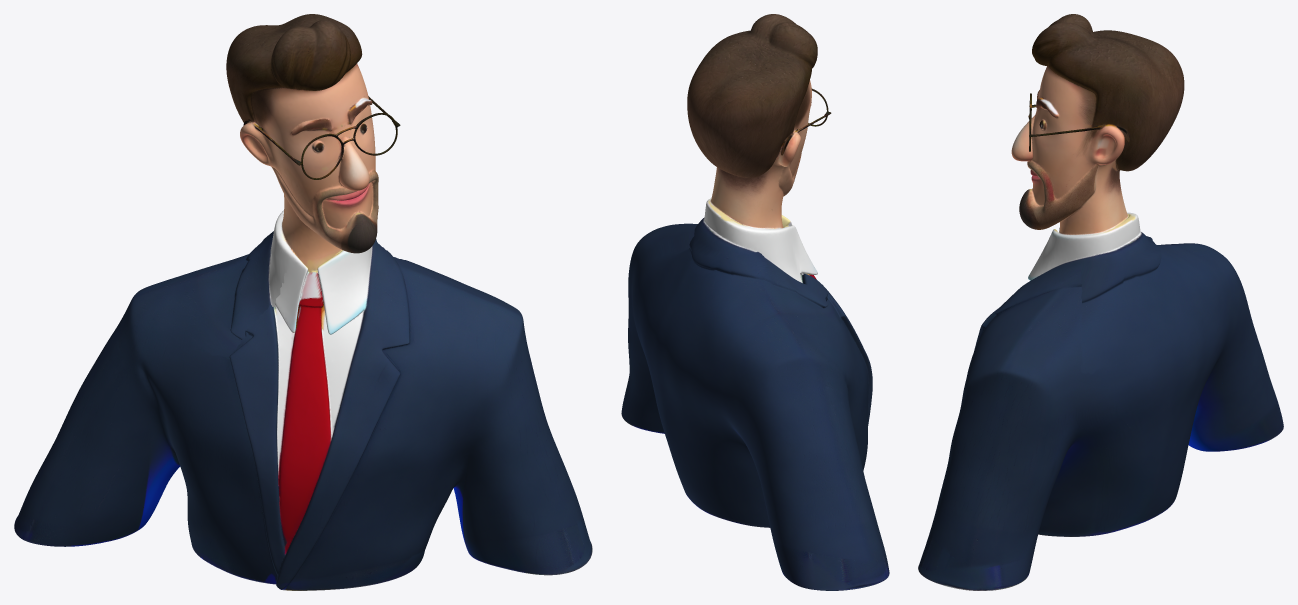
File: avatar_shapekeys.glb
3 renders of one model, left to right at view 1: azimuth 30°, elevation 25°; view 2: azimuth 150°, elevation 25°; view 3: azimuth 270°, elevation 25°, orthographic. The views are drawn at different scales.
Visible parts, largest first — view 1: Mesh_0; view 2: Mesh_0; view 3: Mesh_0.
Boxes of the visible parts, x1=… form: Mesh_0: x1=14, y1=14, x2=592, y2=590; Mesh_0: x1=621, y1=14, x2=889, y2=590; Mesh_0: x1=918, y1=14, x2=1283, y2=590.
Size of the model in its own units: 1.61 by 1.9 by 1.32.
1 material, 1 textured.
